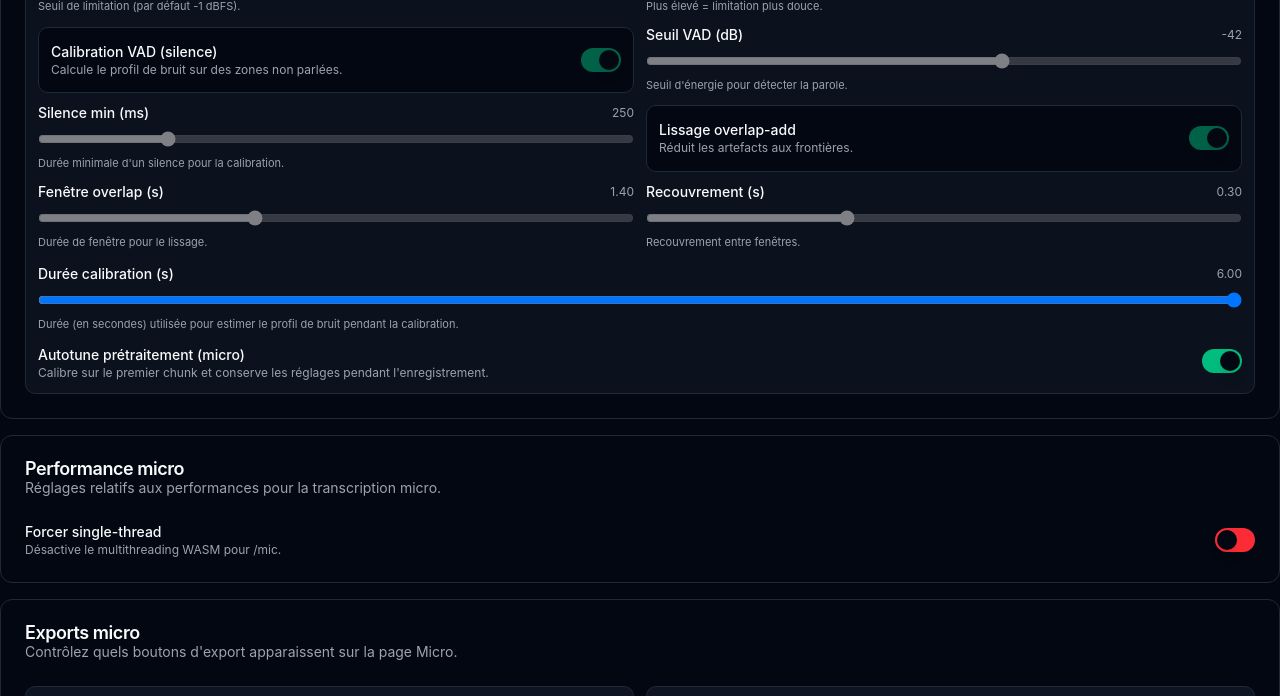
it: SettingsPanel › toggles mic autotune and enables mic controls
(page scrolled)
What coordinates should you click on to do the following:
click the switch named "Autotune prétraitement (micro)"
I would click on:
 (1222, 360)
Its box is left=1202, top=348, right=1242, bottom=372.
(page scrolled)
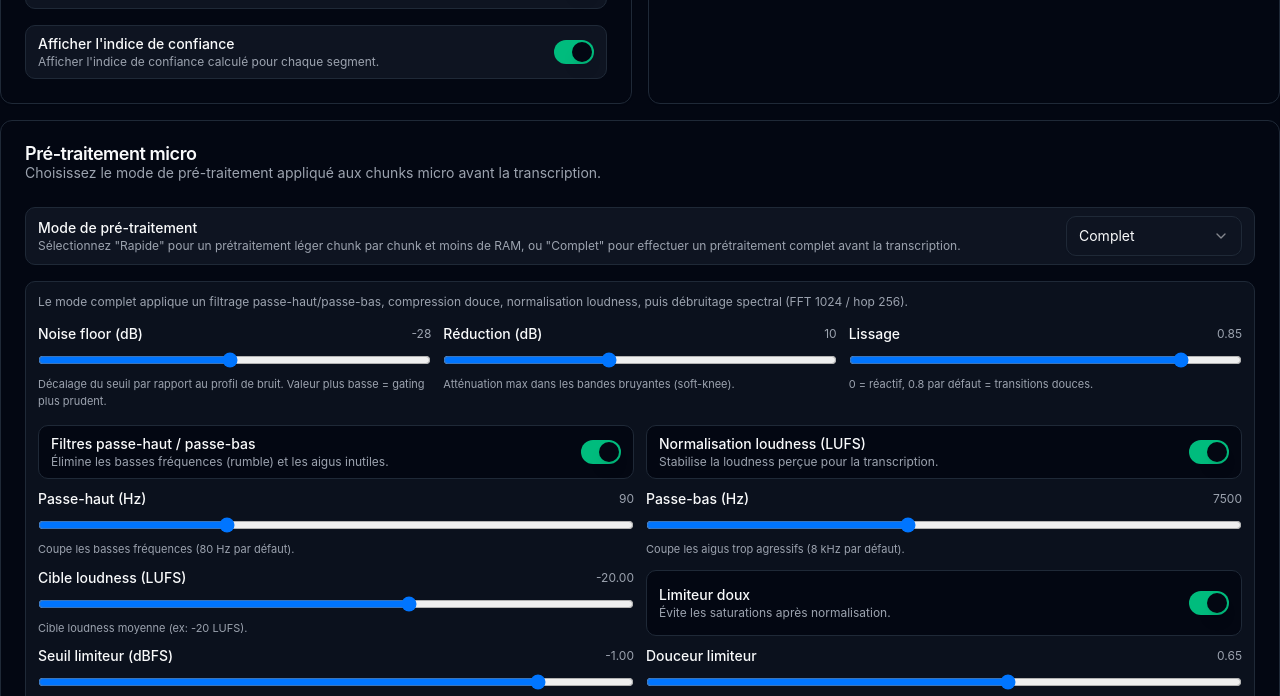
Now the slider labelled "Noise floor (dB)" is enabled, box left=38, top=352, right=431, bottom=368
